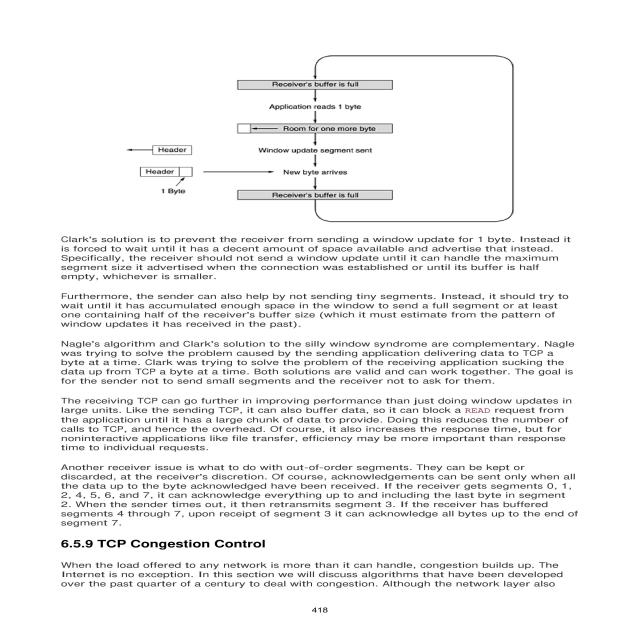diagram: (75, 28, 553, 225)
